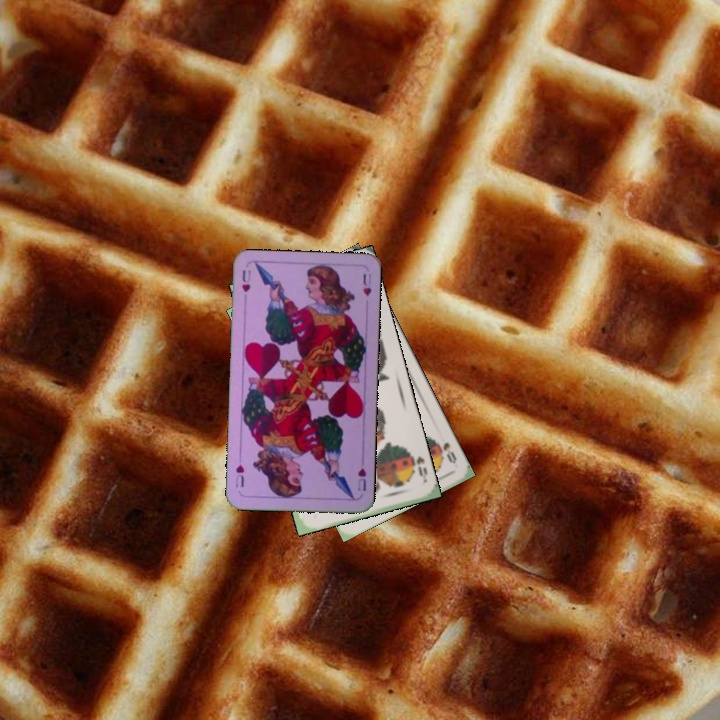HU: (238, 266, 253, 305), (354, 464, 369, 493)
SO: (404, 447, 430, 484), (430, 434, 459, 466)
